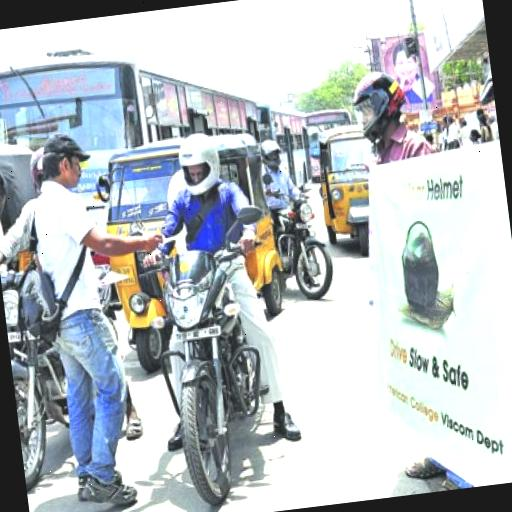helmet: (129, 114, 296, 500), (250, 119, 348, 312)
